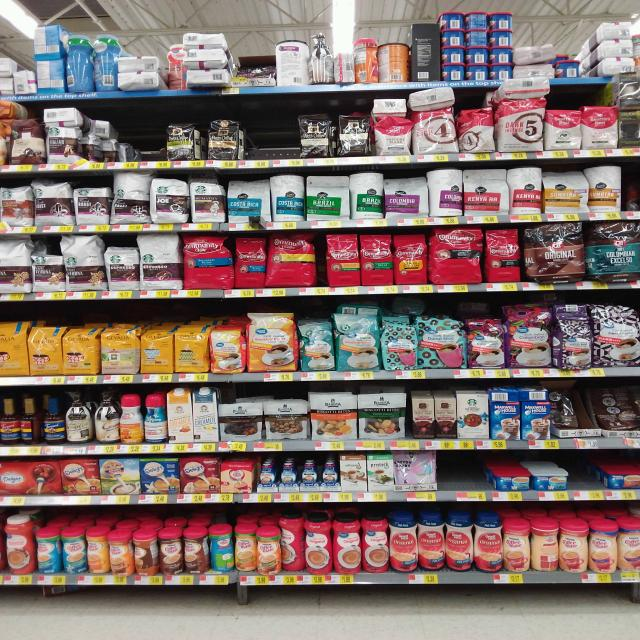empty: (243, 96, 305, 156), (128, 106, 165, 159), (438, 453, 483, 494), (568, 447, 608, 492)
